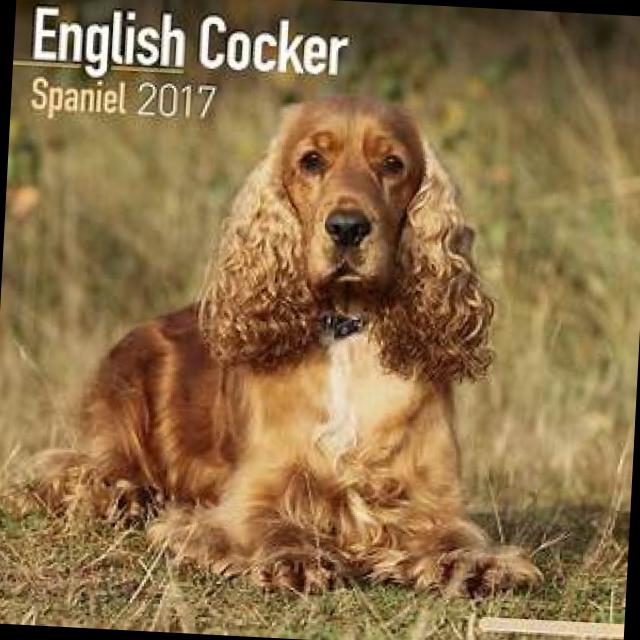animal: (0, 73, 569, 609)
